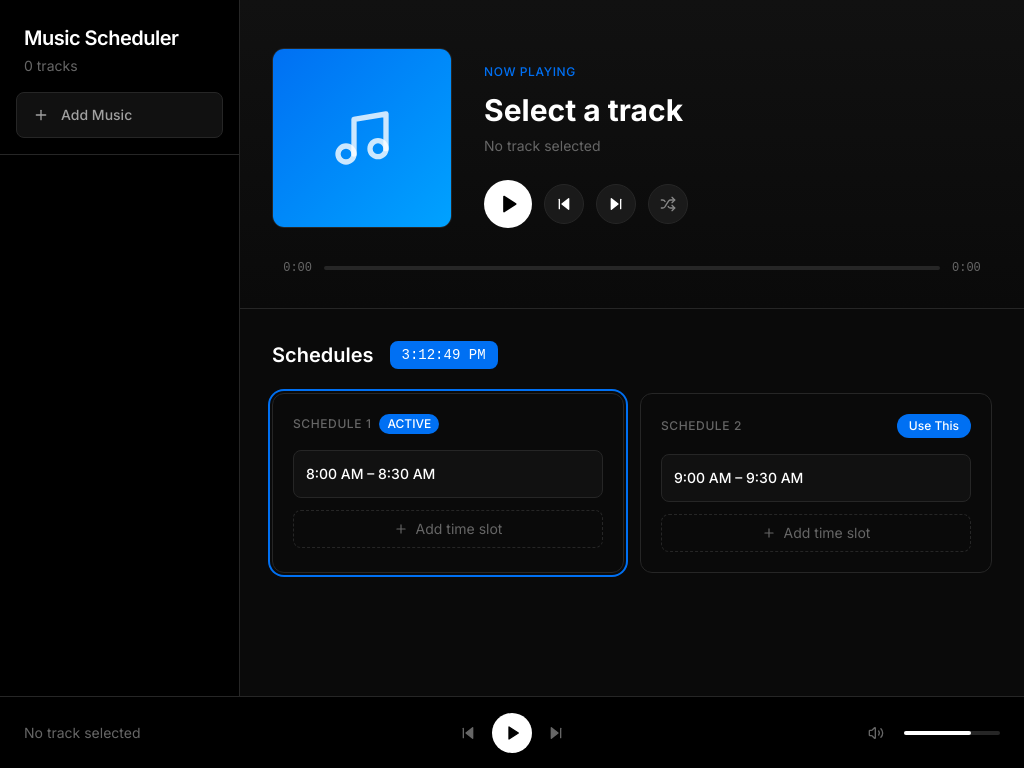
Test: MusicScheduler Component › Add Music Panel › adds a YouTube song to the playlist
Click the button "Add Music". click: (120, 115)
box: [16, 92, 223, 138]
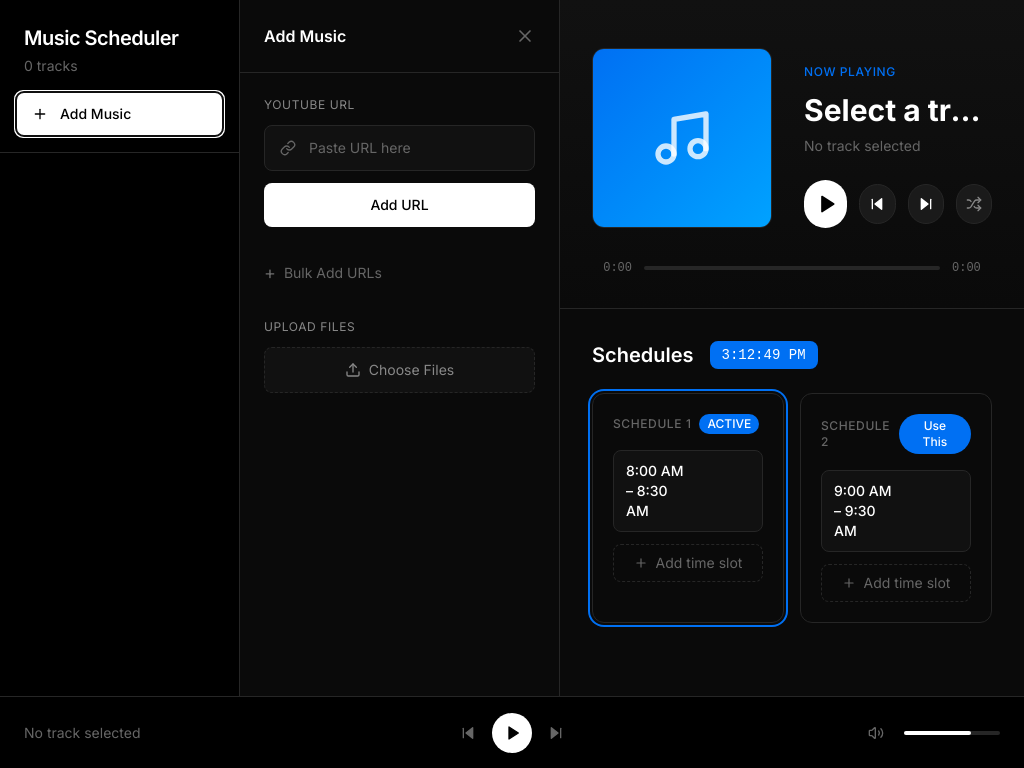
Type "https://www.youtube.com/watch?v=dQw4w9WgXcQ" into the field with placeholder "Paste URL here". click: (400, 148)
box: [264, 125, 535, 171]
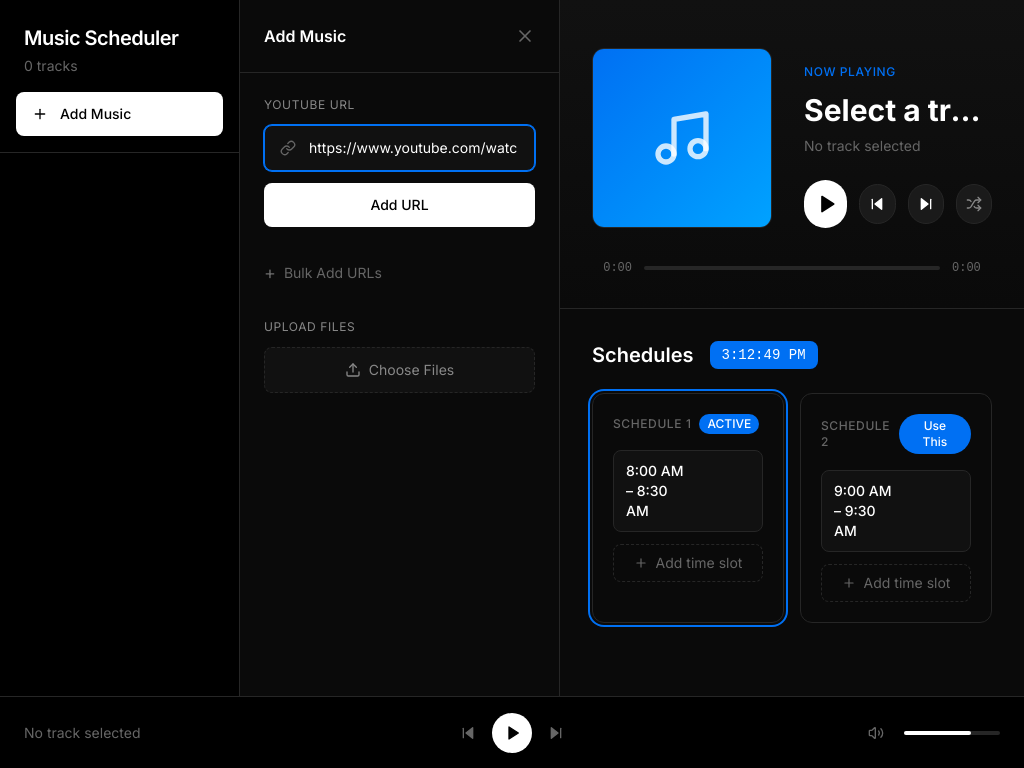
Click the button "Add URL". click: (400, 205)
box: [264, 183, 535, 227]
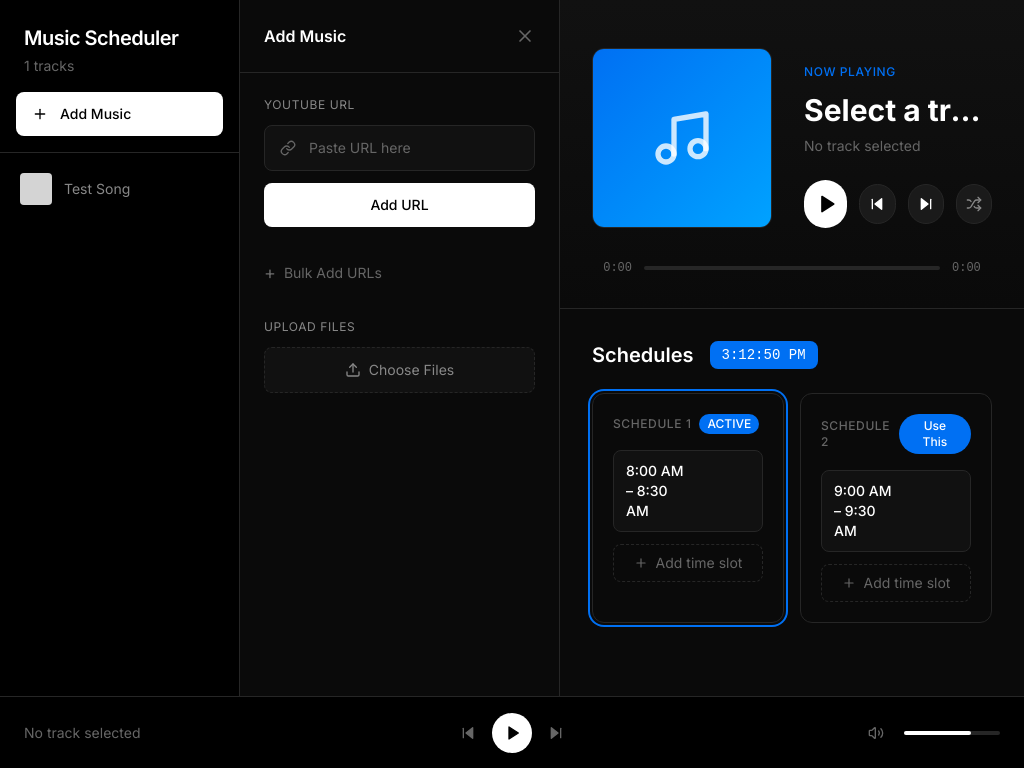
Expected: the text "Test Song" is shown, [64, 180, 130, 197]
